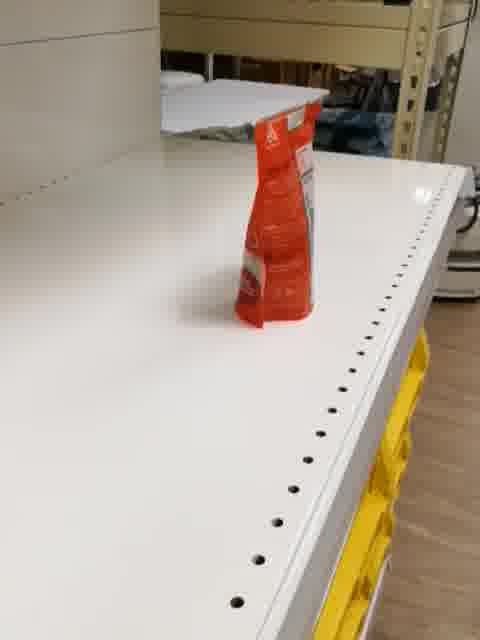whitechia: (230, 97, 326, 332)
